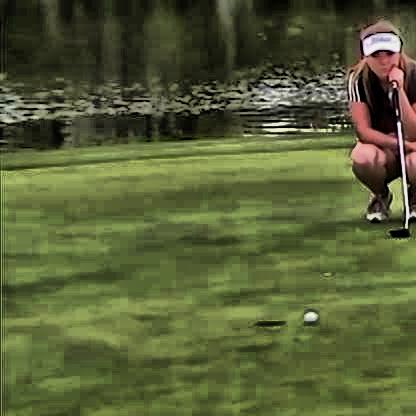golfball: (300, 307, 313, 320)
